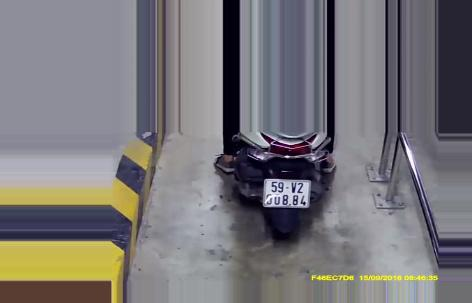License_Plate: (257, 176, 311, 212)
